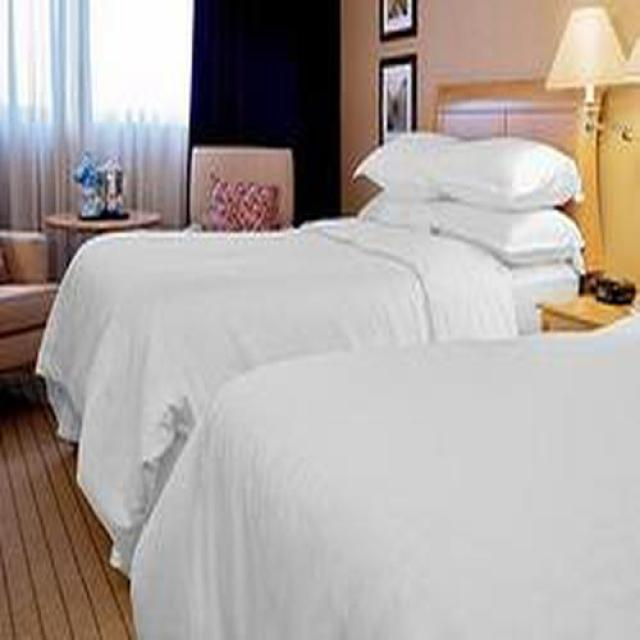bed: (37, 81, 613, 576)
